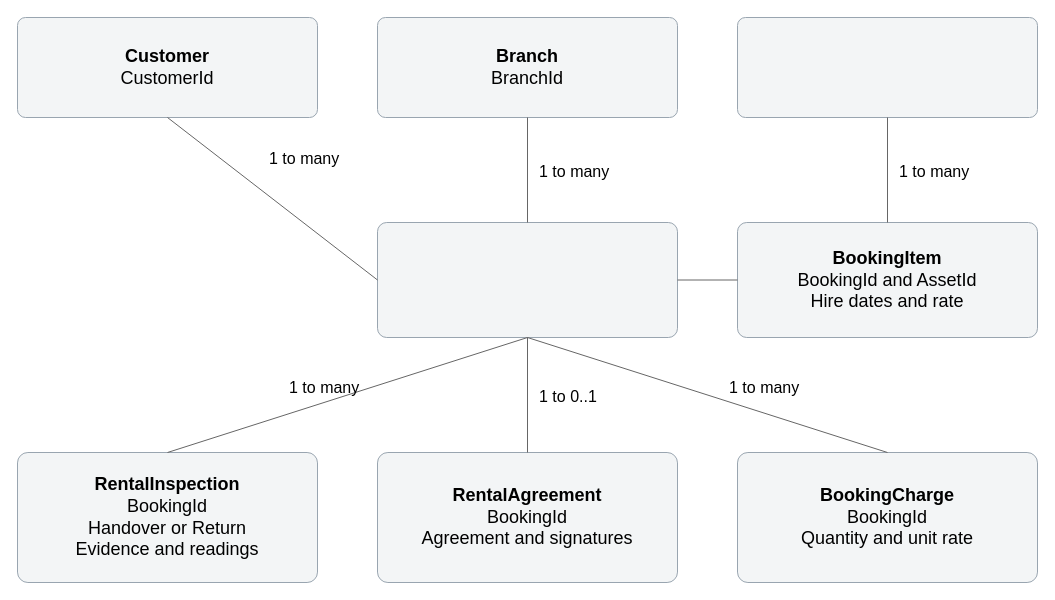
The diagram is 1055 pixels wide and 600 high, and some of its shapes have lost their labels. The centre of each missing label's shape, as x and y in pixels:
"Asset AssetId" goes at [887,67].
"Booking BookingId CustomerId and BranchId" goes at [527,280].
